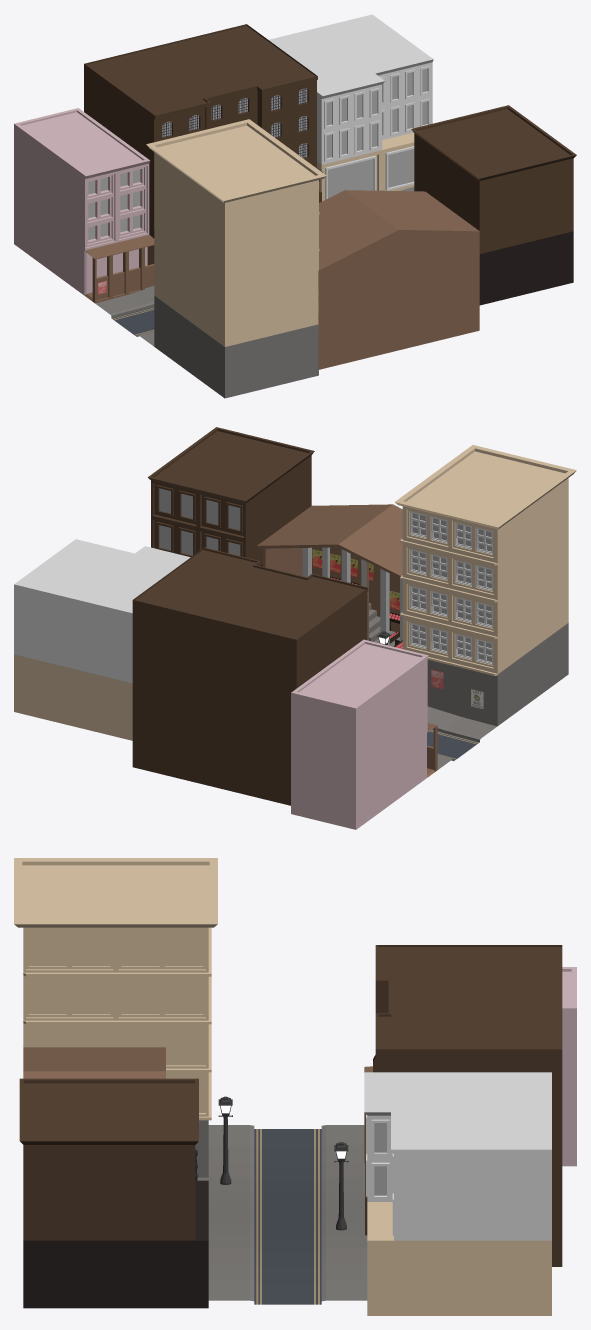
Rendered from incline.glb.
3 renders of one model, top to bottom at view 1: azimuth 30°, elevation 25°; view 2: azimuth 150°, elevation 25°; view 3: azimuth 270°, elevation 25°, orthographic. The views are drawn at different scales.
Parts seen in each view (by area): view 1: Cube.185, Cube.077, Cube.074, Cube.203, Cube.073, Cube.200, Street.002; view 2: Cube.203, Cube.185, Cube.200, Cube.073, Cube.074, Cube.077, Street.002; view 3: Cube.200, Cube.074, Cube.185, Street.002, Cube.203, Cube.077, Cube.073, Body (×2).
Boxes of the visible parts, box(x1,y1,x2,y2) form: Cube.185: box(146, 119, 326, 398); Cube.077: box(318, 190, 479, 369); Cube.074: box(411, 105, 576, 305); Cube.203: box(84, 24, 321, 238); Cube.073: box(14, 108, 154, 303); Cube.200: box(268, 14, 433, 201); Street.002: box(95, 187, 414, 346); Cube.203: box(132, 547, 368, 805); Cube.185: box(395, 445, 576, 726); Cube.200: box(14, 539, 190, 740); Cube.073: box(291, 639, 437, 829); Cube.074: box(148, 427, 314, 566); Cube.077: box(257, 504, 402, 648); Street.002: box(427, 706, 497, 769); Cube.200: box(364, 1072, 551, 1315); Cube.074: box(19, 1078, 208, 1308); Cube.185: box(14, 858, 217, 1177); Street.002: box(197, 1125, 367, 1304); Cube.203: box(365, 945, 562, 1266); Cube.077: box(23, 1047, 165, 1078); Cube.073: box(364, 967, 576, 1166); Body (×2): box(218, 1096, 348, 1230).
Size of the model in its own units: 20.38 by 11.92 by 21.29.
Materials: 22 (6 with a texture image).
